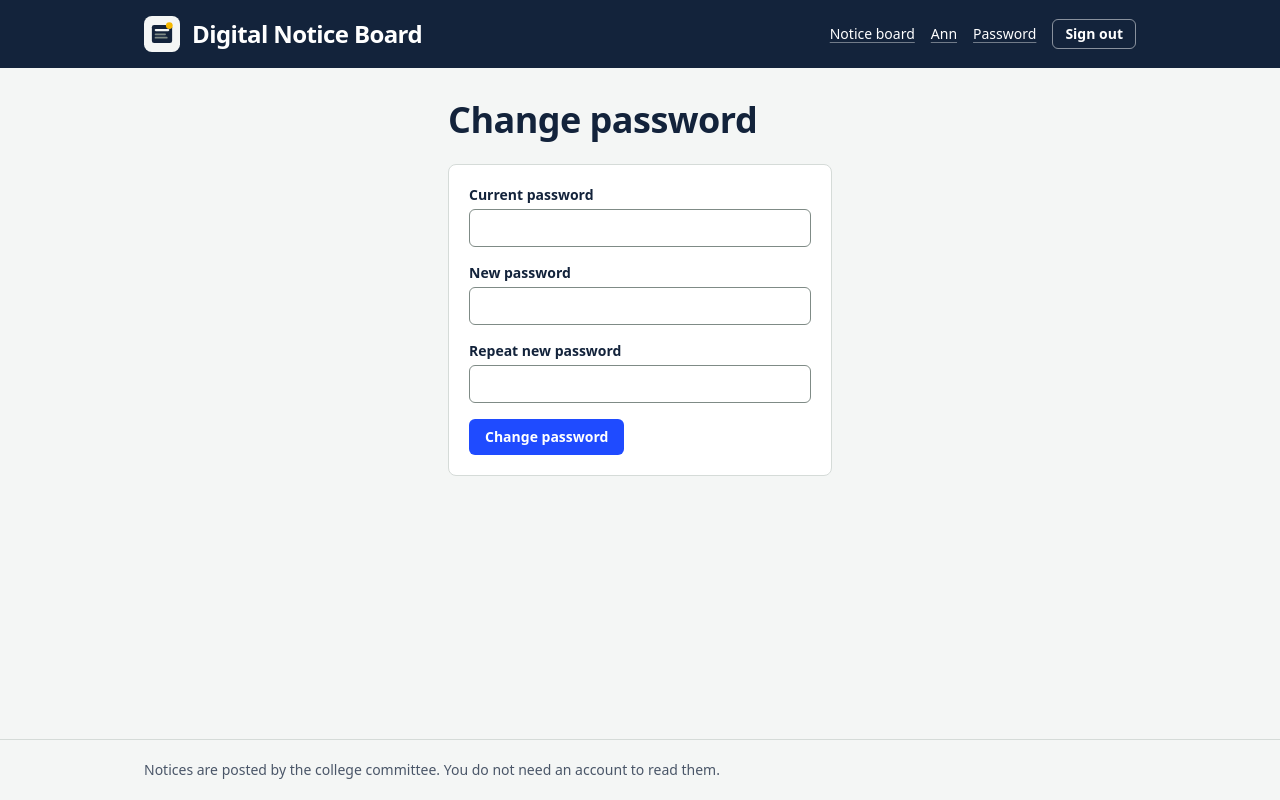
change password page › changes the password and goes to the user's area
Check: the heading "Change password" is shown, box [448,95,757,144]
In the password field labelled "Current password": (640, 228) [469,209,811,247], type "old-password"
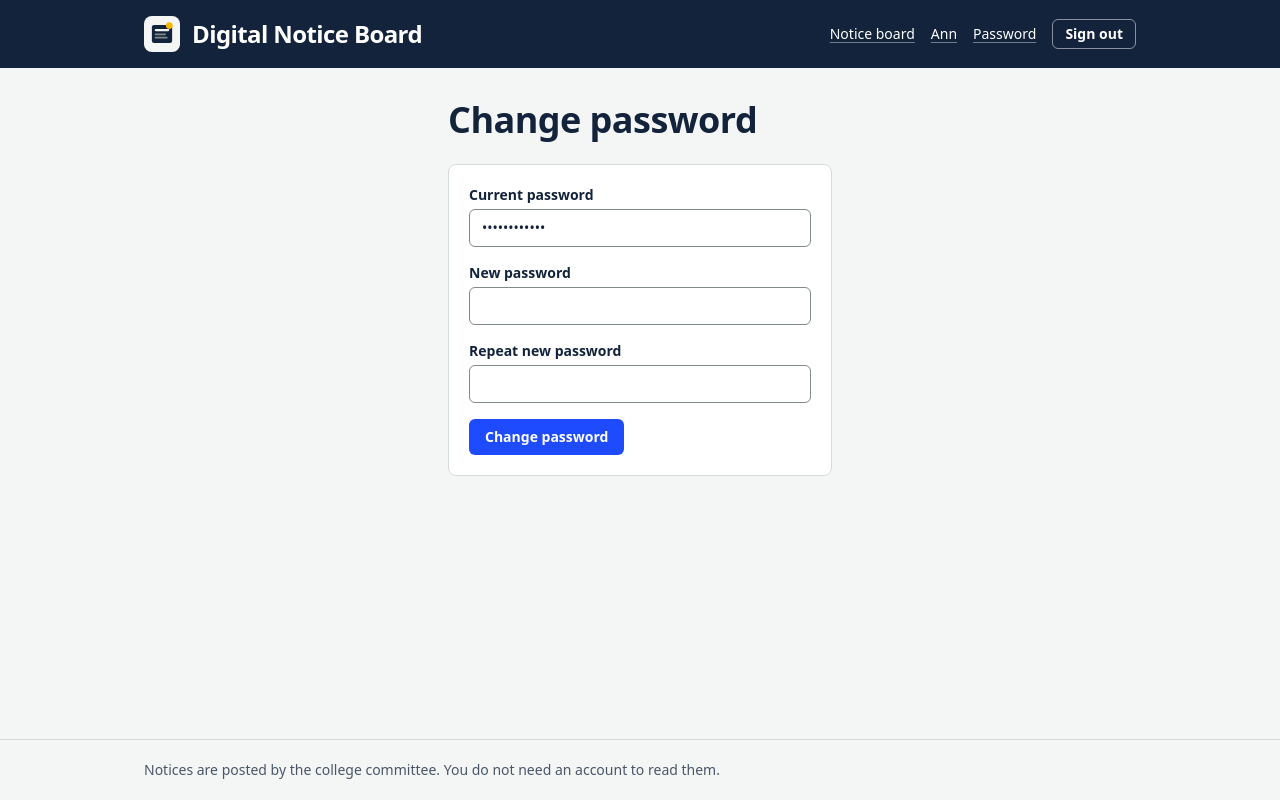
In the password field labelled "New password": (640, 306) [469,287,811,325], type "a-long-new-password"
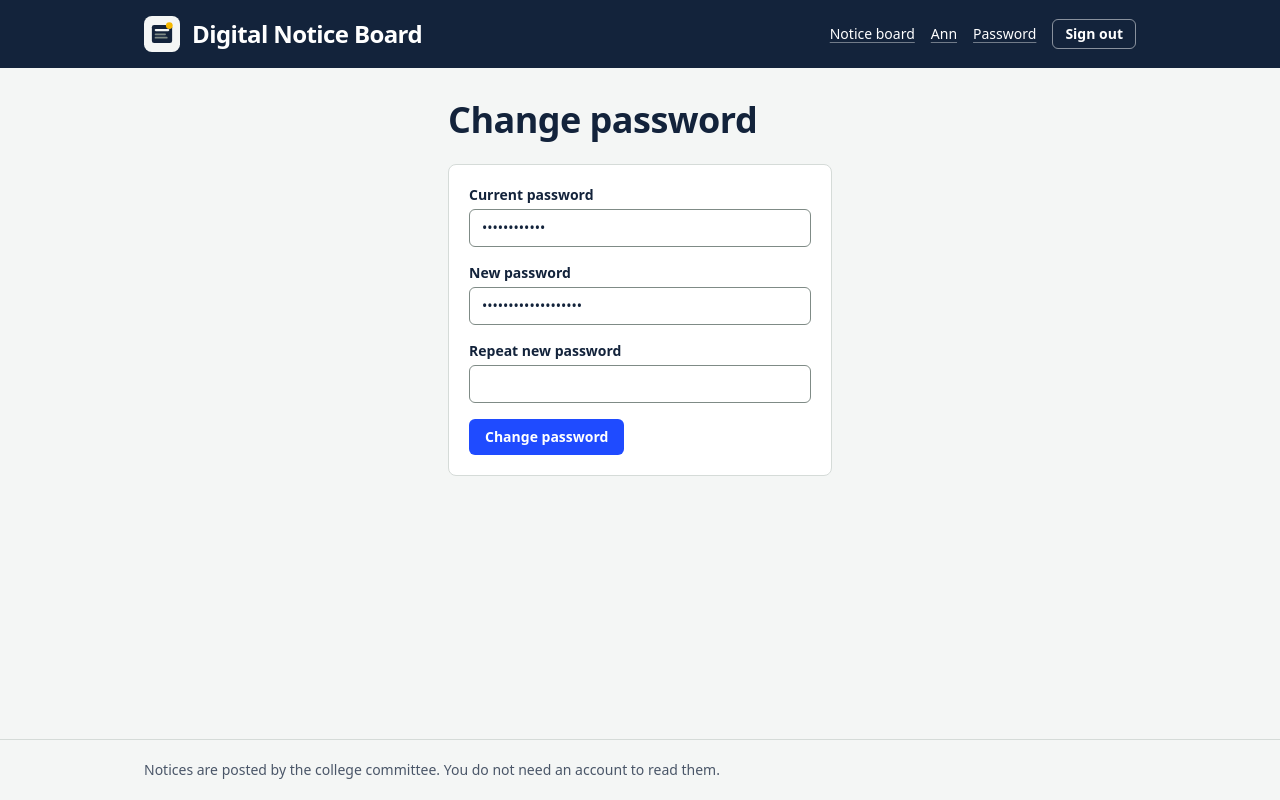
In the password field labelled "Repeat new password": (640, 384) [469,365,811,403], type "a-long-new-password"
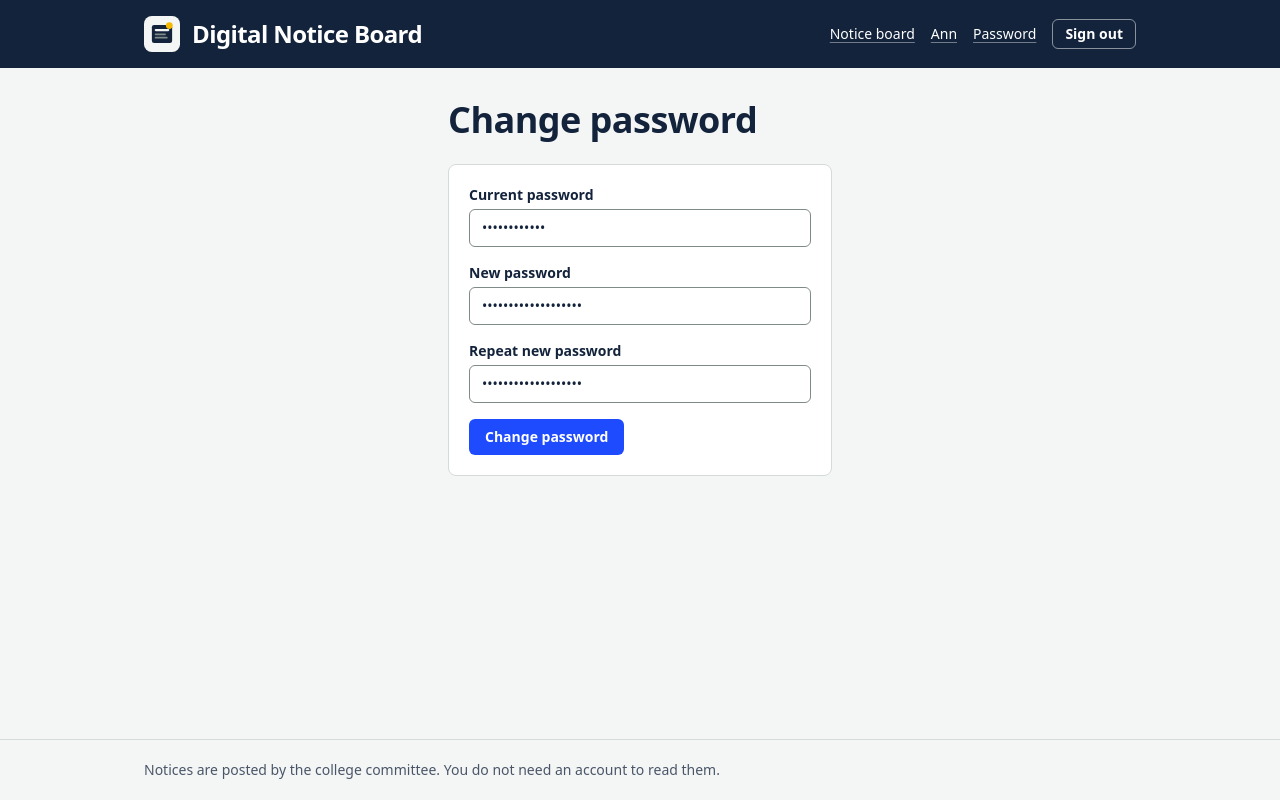
Click the button "Change password": click(547, 437) [469,419,624,455]
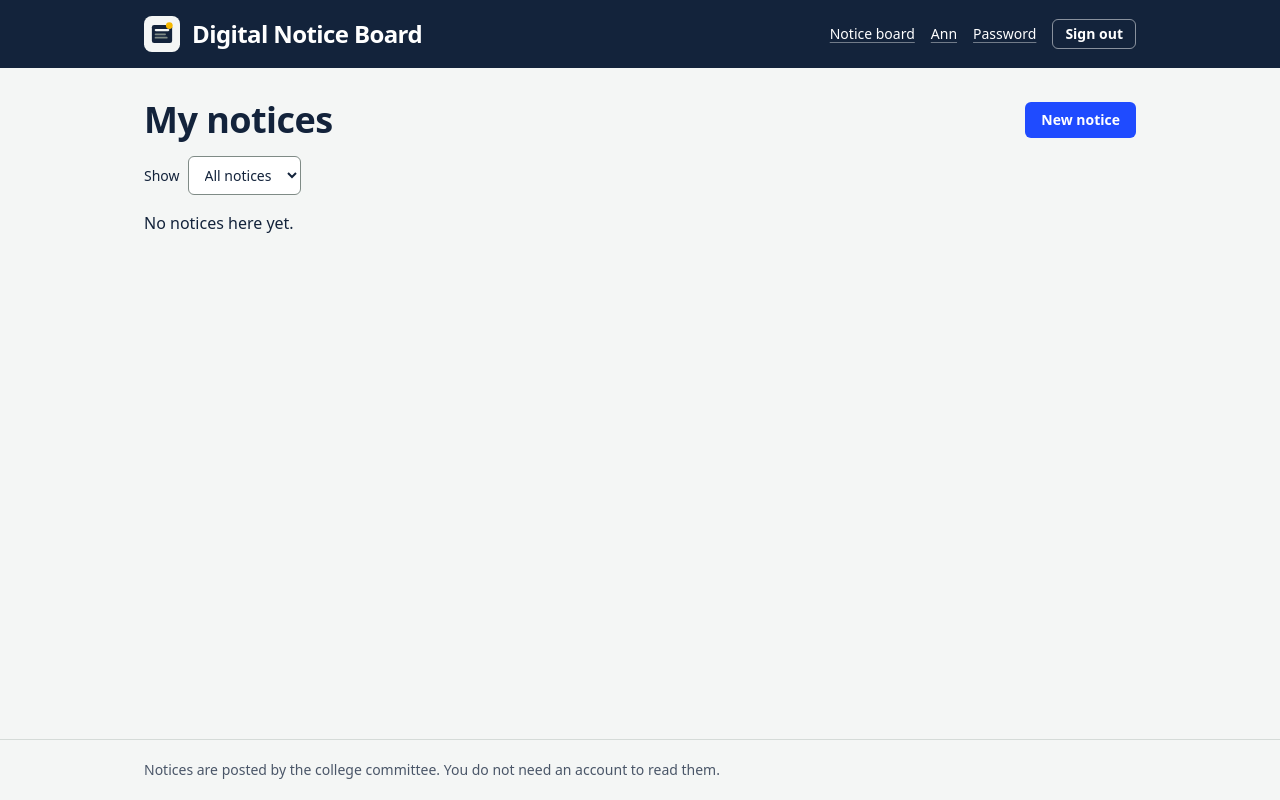
Check: the heading "My notices" is shown, box [144,100,333,140]
